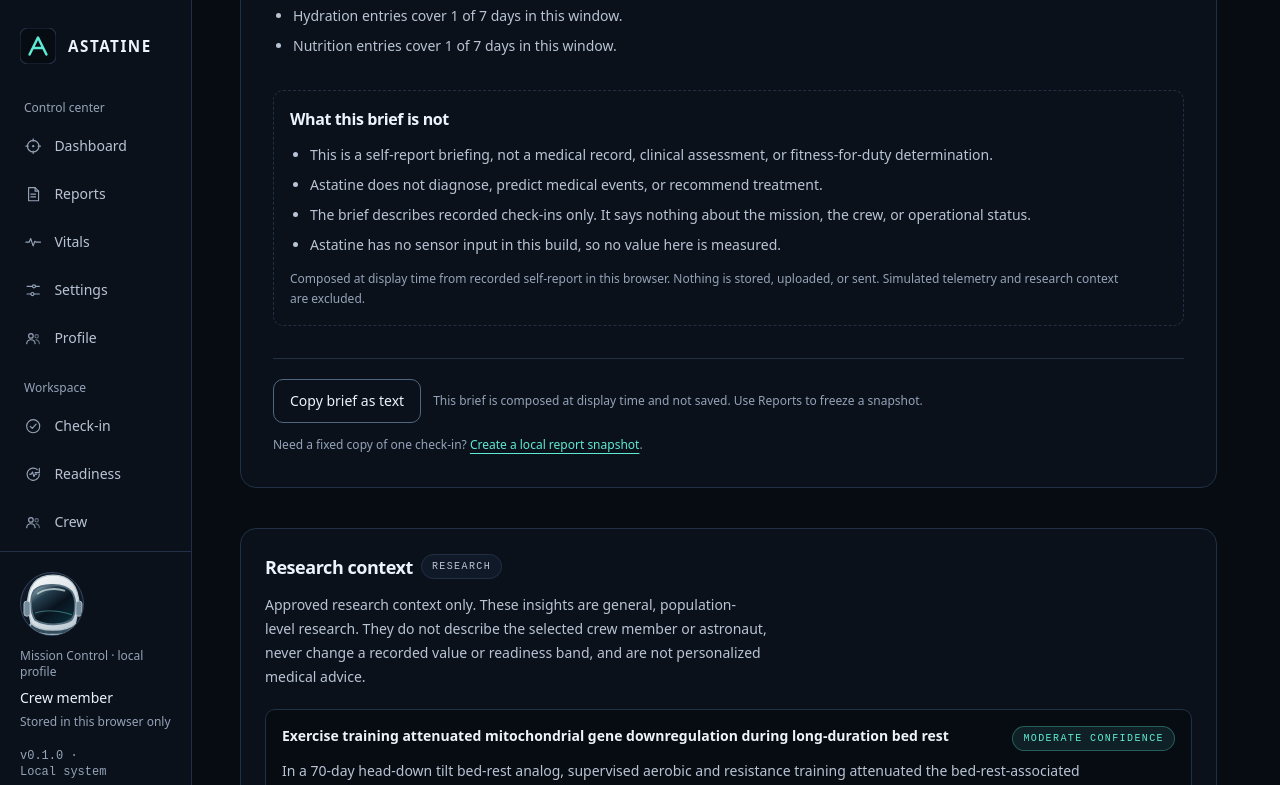
Test case: BriefPage › renders a recorded brief with limits and copies it locally
The image size is (1280, 785).
(page scrolled)
expect the heading "What this brief is not" is shown: met, box [290, 108, 449, 130]
expect the list item "not a medical record, clinical assessment" is shown: met, box [310, 145, 993, 164]
Click the button "Copy brief as text" at x=347, y=401, box [273, 379, 421, 423]
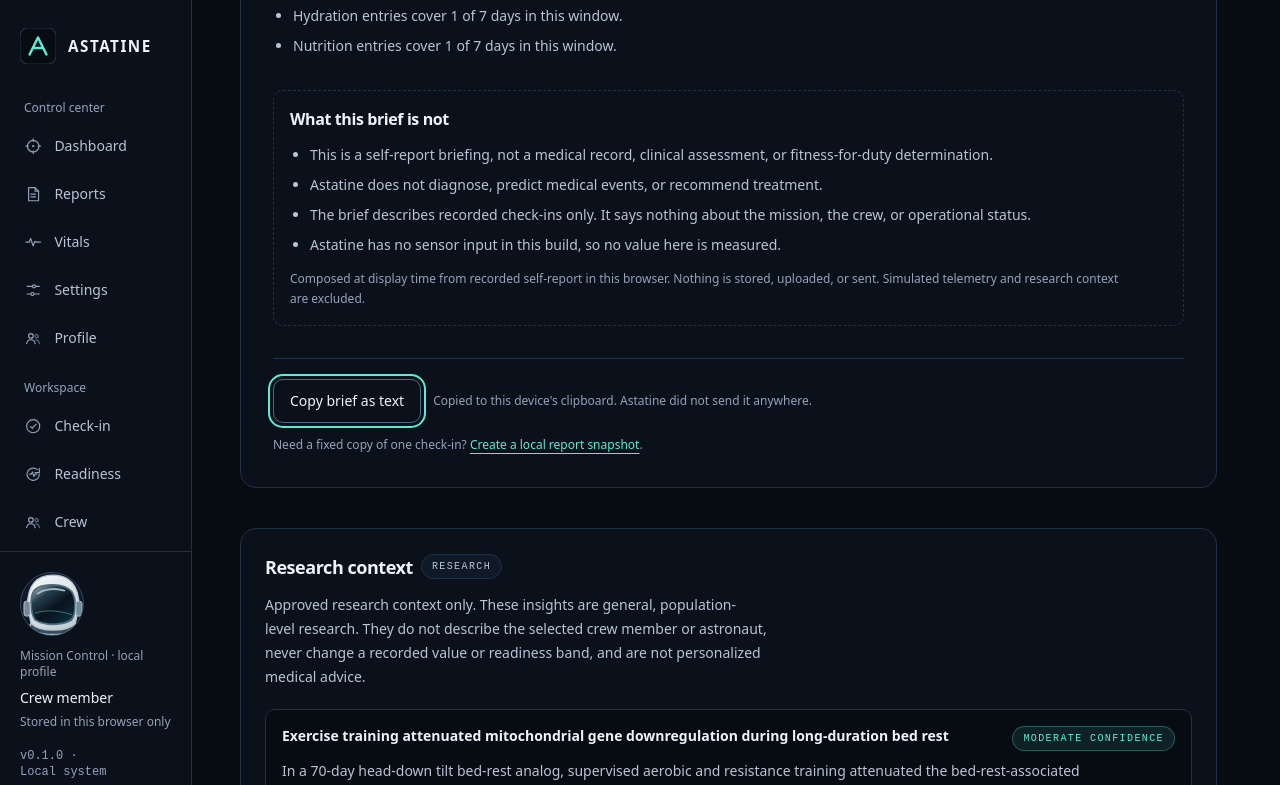
expect the text "Copied to this device's clipboard. Astatine did not send it anywhere." is shown: met, box [433, 391, 812, 411]
